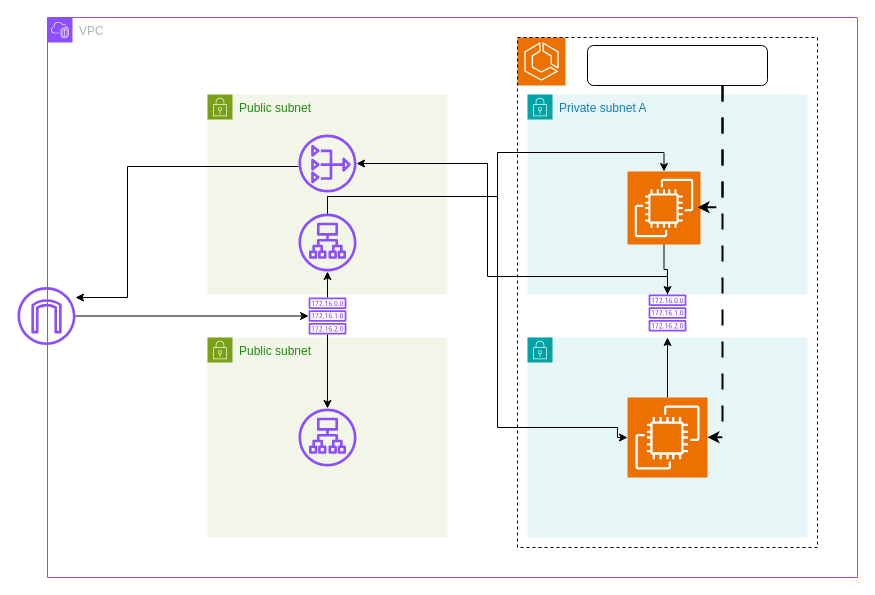
This 875x595 diagram has some shape labels left out. The box of each missing label's shape, as (x1, y1, x2, y2) in pixels:
ECS Service: (586, 44, 768, 86)
Private subnet B: (526, 336, 808, 538)
